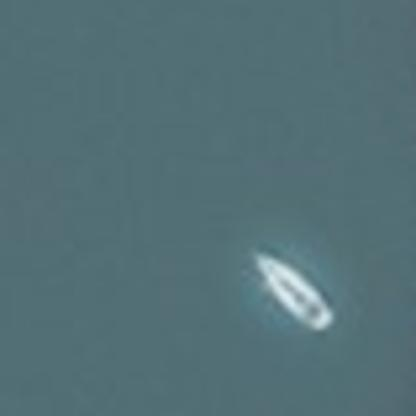ship: (240, 236, 344, 340)
